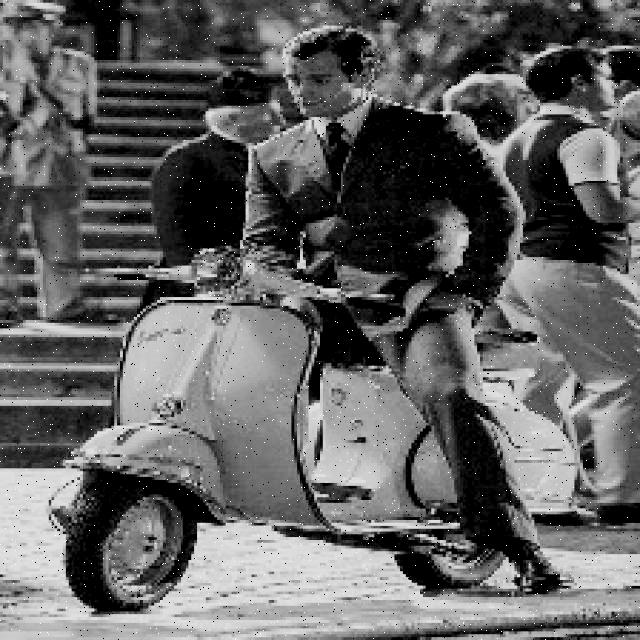Bike: (77, 262, 493, 632)
